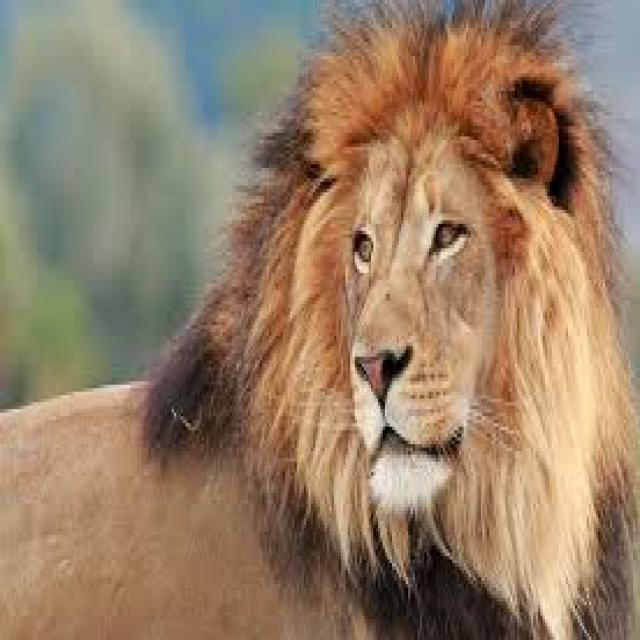Lion: (144, 3, 635, 637)
